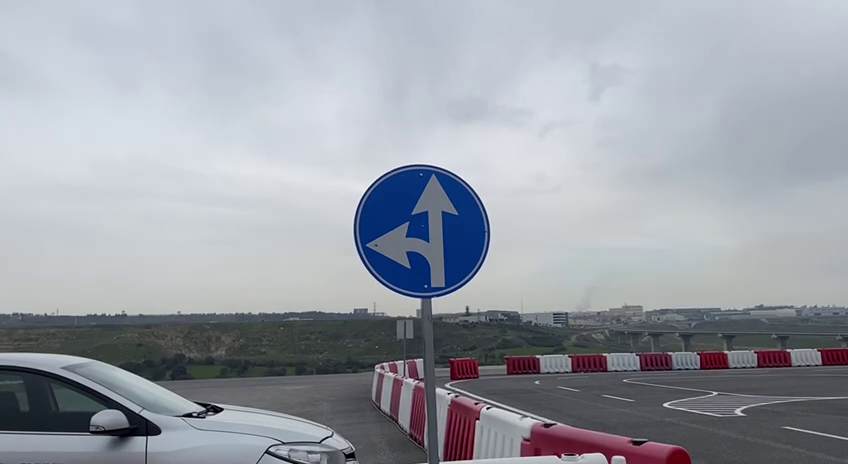forwardAndLeft: (349, 161, 493, 301)
